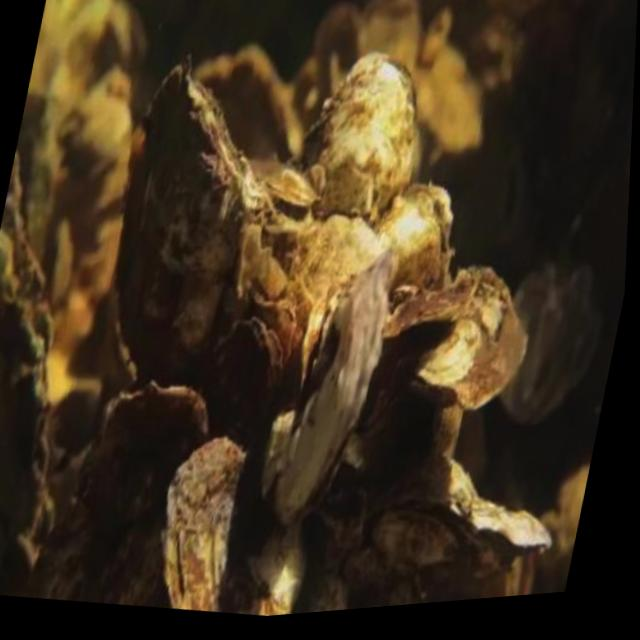Oyster-Closed: (214, 316, 285, 433), (470, 495, 552, 560), (299, 288, 341, 388), (491, 149, 529, 254), (484, 555, 532, 598), (263, 169, 314, 205)
Oyster-Indeterminate: (114, 65, 291, 380), (260, 261, 392, 531), (0, 150, 55, 584), (301, 55, 416, 218), (82, 387, 208, 525), (414, 267, 527, 410), (164, 437, 248, 612), (196, 47, 300, 165), (298, 214, 379, 302), (377, 190, 441, 300), (374, 498, 474, 568), (247, 511, 310, 609), (418, 55, 481, 150), (385, 290, 461, 365), (309, 6, 363, 100), (358, 0, 422, 72)
